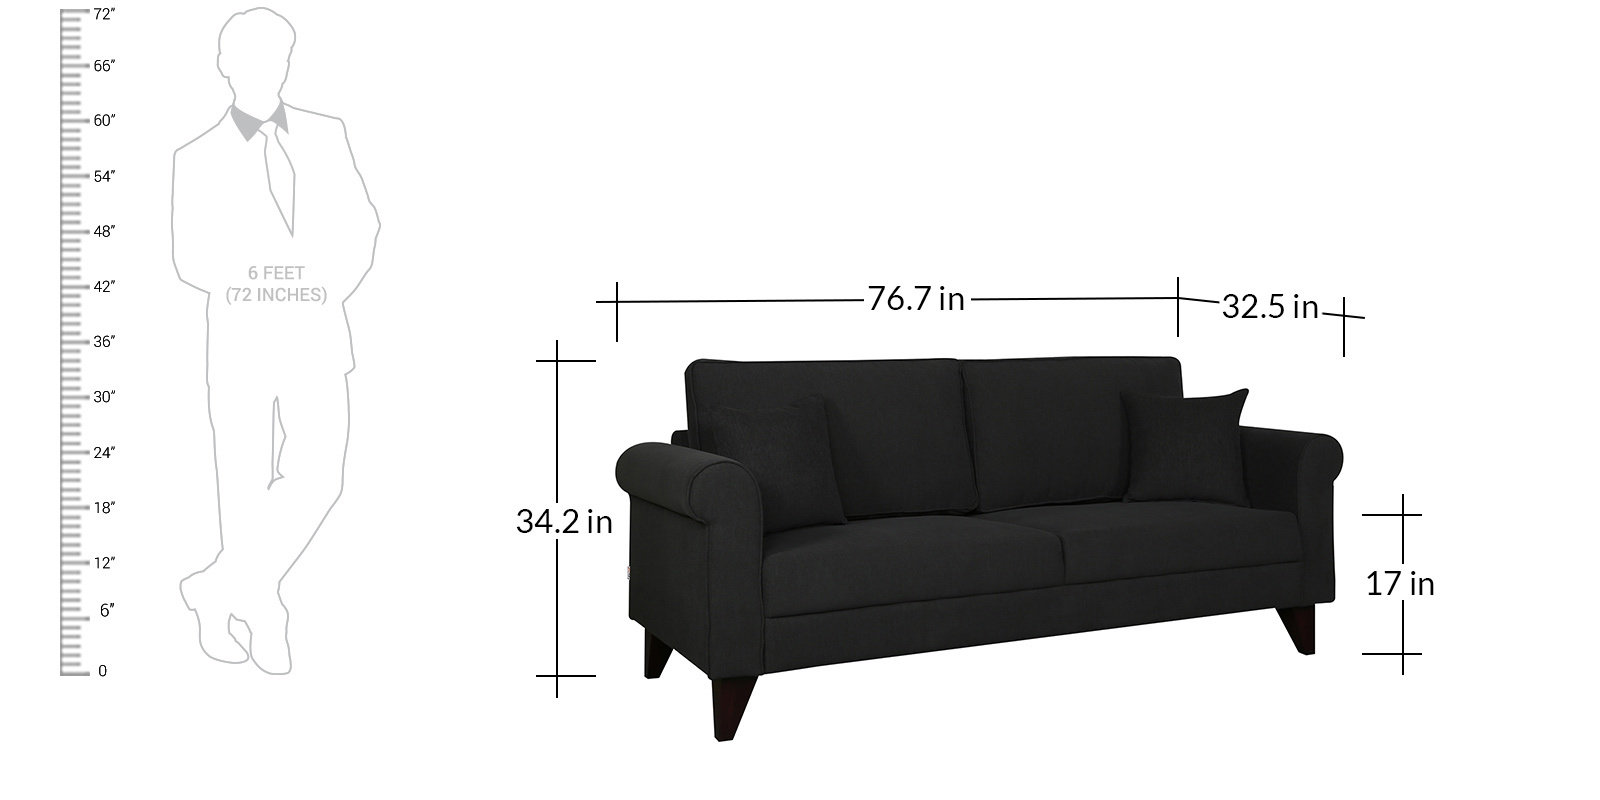Fuego Three Seater Sofa in Charcoal Grey Colour by CasaCraft: (608, 343, 1362, 750)
